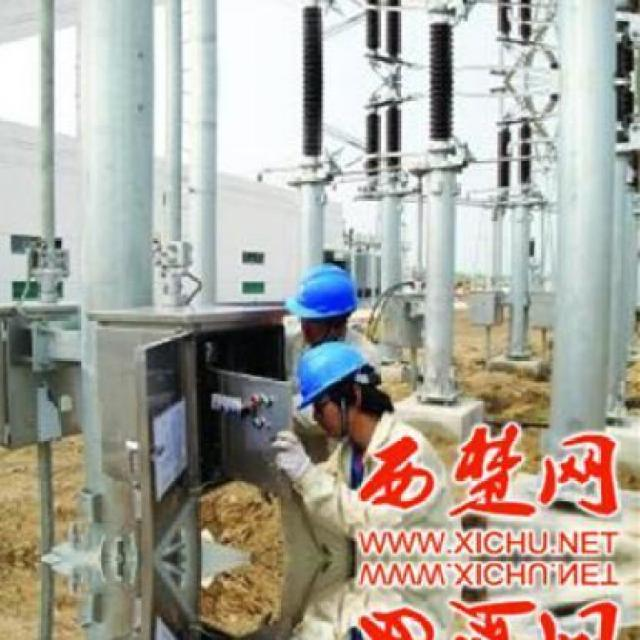hat: (281, 340, 374, 420), (276, 260, 358, 325)
